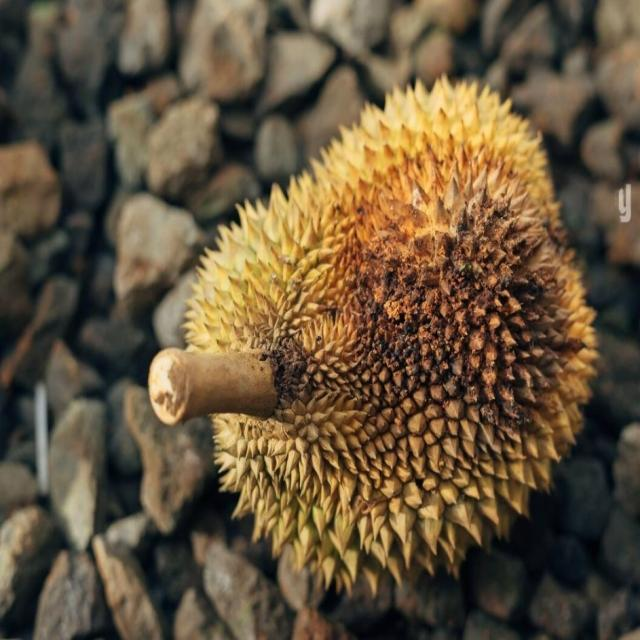defective: (182, 75, 602, 601)
